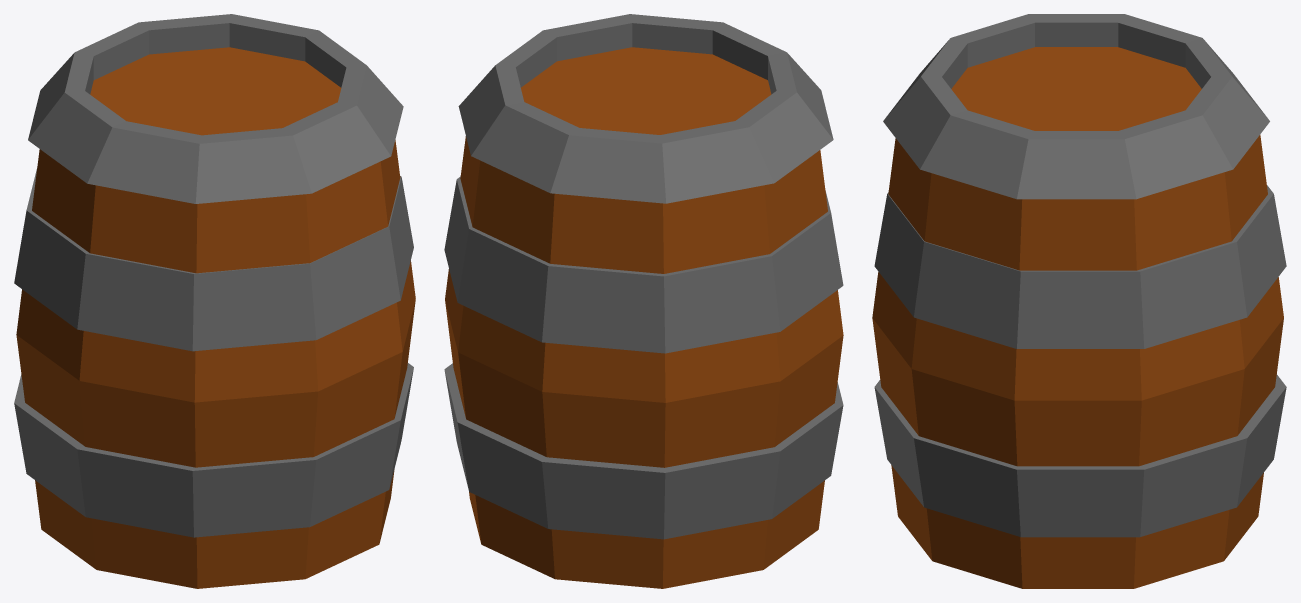
File: Tonneaux.fbx
3 views of the same model, side by side, from view 1: azimuth 30°, elevation 25°; view 2: azimuth 150°, elevation 25°; view 3: azimuth 270°, elevation 25° (orthographic).
Visible parts, largest first — view 1: Cylinder.023, Cylinder.003, Cylinder.017, Cylinder.004, Cylinder.002, Cylinder, Cylinder.005, Cylinder.018, Cylinder.022, Cylinder.020, Cylinder.016, Cylinder.021 (+6 smaller); view 2: Cylinder.023, Cylinder.017, Cylinder.007, Cylinder.006, Cylinder.008, Cylinder, Cylinder.005, Cylinder.014, Cylinder.015, Cylinder.013, Cylinder.016, Cylinder.012 (+6 smaller); view 3: Cylinder.023, Cylinder.010, Cylinder.017, Cylinder.011, Cylinder.009, Cylinder, Cylinder.002, Cylinder.008, Cylinder.001, Cylinder.012, Cylinder.021, Cylinder.020 (+6 smaller).
Part boxes in pixels (x1,y1,x2,y2): Cylinder.023: [14, 168, 413, 351]; Cylinder.003: [194, 194, 318, 588]; Cylinder.017: [14, 363, 413, 537]; Cylinder.004: [79, 185, 197, 588]; Cylinder.002: [305, 161, 402, 578]; Cylinder: [90, 47, 341, 135]; Cylinder.005: [16, 149, 96, 569]; Cylinder.018: [195, 128, 311, 203]; Cylinder.022: [87, 121, 201, 203]; Cylinder.020: [283, 102, 390, 193]; Cylinder.016: [28, 91, 125, 183]; Cylinder.021: [338, 65, 403, 155]; Cylinder.023: [444, 176, 843, 353]; Cylinder.017: [444, 363, 843, 539]; Cylinder.007: [542, 193, 665, 588]; Cylinder.006: [663, 185, 780, 588]; Cylinder.008: [458, 160, 554, 578]; Cylinder: [521, 47, 771, 134]; Cylinder.005: [763, 150, 843, 569]; Cylinder.014: [550, 128, 665, 203]; Cylinder.015: [660, 121, 773, 203]; Cylinder.013: [471, 102, 578, 192]; Cylinder.016: [736, 91, 833, 182]; Cylinder.012: [458, 65, 524, 155]; Cylinder.023: [874, 185, 1286, 348]; Cylinder.010: [1014, 199, 1141, 588]; Cylinder.017: [874, 374, 1286, 537]; Cylinder.011: [911, 173, 1022, 588]; Cylinder.009: [1134, 172, 1244, 588]; Cylinder: [951, 47, 1201, 130]; Cylinder.002: [872, 138, 932, 560]; Cylinder.008: [1224, 135, 1283, 560]; Cylinder.001: [1017, 131, 1136, 199]; Cylinder.012: [1118, 110, 1232, 199]; Cylinder.021: [920, 110, 1034, 198]; Cylinder.020: [883, 76, 967, 168].
Size of the model in its own units: 230 by 271 by 218.
